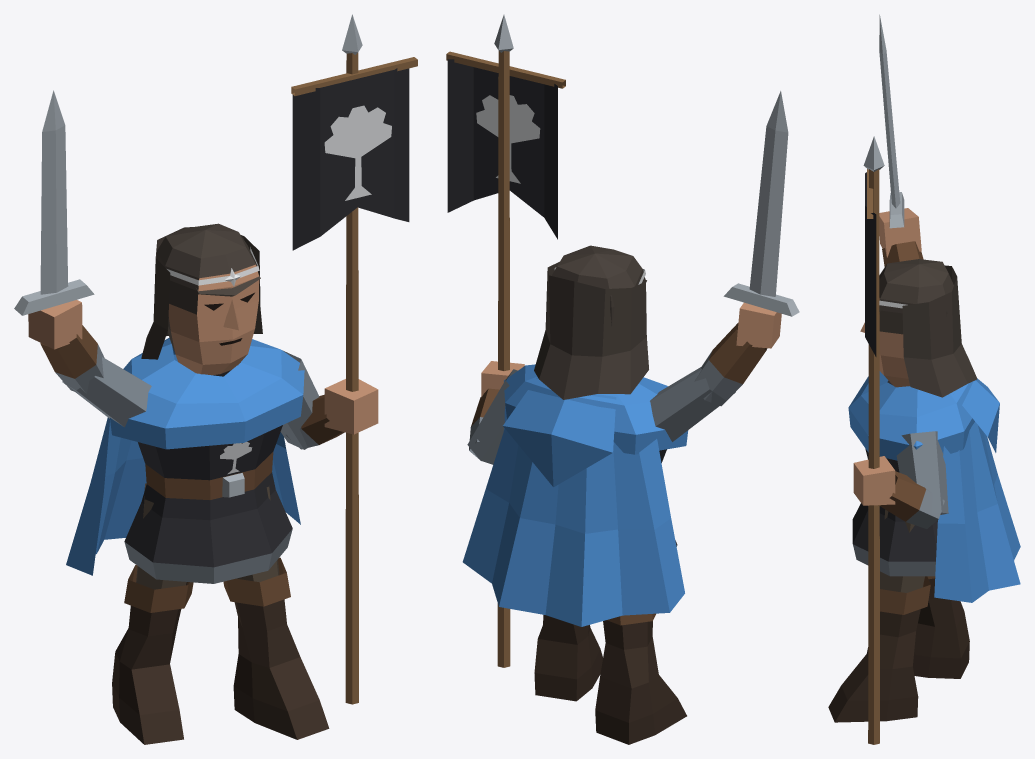
The model's file is aragorn.glb.
3 views of the same model, side by side, from view 1: azimuth 30°, elevation 25°; view 2: azimuth 150°, elevation 25°; view 3: azimuth 270°, elevation 25° (orthographic). The views are drawn at different scales.
Parts seen in each view (by area): view 1: aragorn; view 2: aragorn; view 3: aragorn.
Boxes of the visible parts, x1,y1,x2,y2 form: aragorn: (14, 14, 417, 744); aragorn: (446, 14, 799, 744); aragorn: (828, 14, 1020, 744).
Bounding box in the file's own units: 1.18 × 2.03 × 0.5838.
